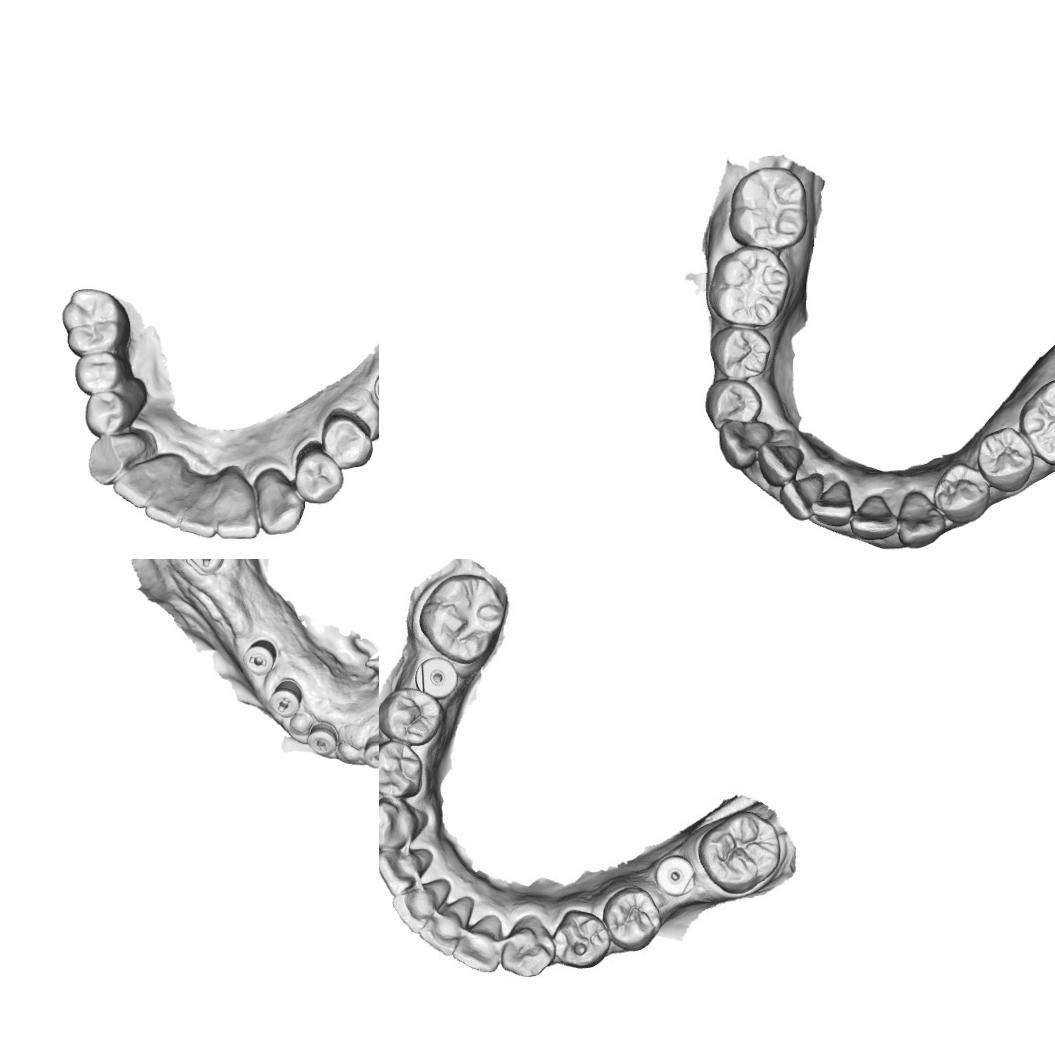canine: (251, 466, 306, 537), (81, 431, 148, 486), (895, 487, 948, 551), (714, 418, 774, 472), (503, 916, 552, 982), (379, 798, 426, 850)
implant: (411, 656, 460, 700), (650, 852, 694, 898)
implant_minus: (240, 634, 280, 678), (266, 679, 304, 724), (306, 718, 342, 756), (182, 559, 229, 578), (359, 729, 379, 771)
incisor: (113, 452, 178, 512), (142, 467, 198, 529), (177, 472, 228, 540), (216, 467, 262, 541), (391, 883, 446, 935), (846, 492, 900, 543), (454, 918, 504, 973), (379, 846, 433, 894), (418, 904, 466, 956), (778, 472, 826, 522), (808, 478, 854, 528), (758, 438, 802, 480)
molar: (419, 570, 506, 664), (704, 242, 794, 329), (726, 164, 810, 251), (697, 810, 783, 894), (58, 285, 129, 358), (1015, 376, 1055, 469)
premolar: (972, 426, 1036, 495), (601, 886, 664, 952), (705, 324, 774, 382), (550, 907, 612, 971), (379, 688, 447, 746), (932, 462, 992, 524), (294, 440, 345, 506), (702, 376, 760, 434), (322, 408, 374, 470), (379, 739, 427, 798), (80, 390, 134, 438), (72, 348, 125, 396)
